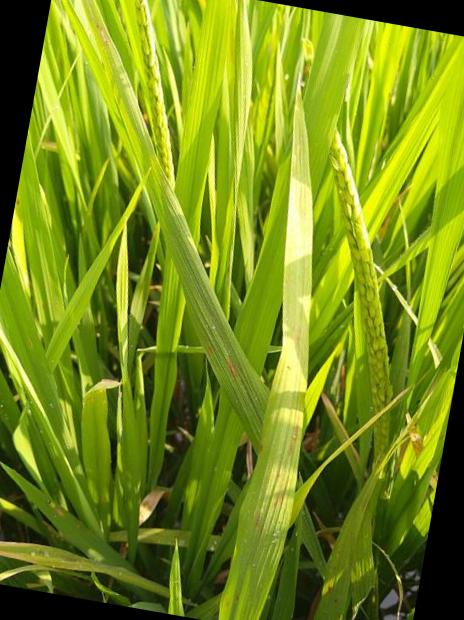Leaf Streak: (221, 105, 313, 620), (203, 339, 239, 379), (94, 17, 114, 59)
